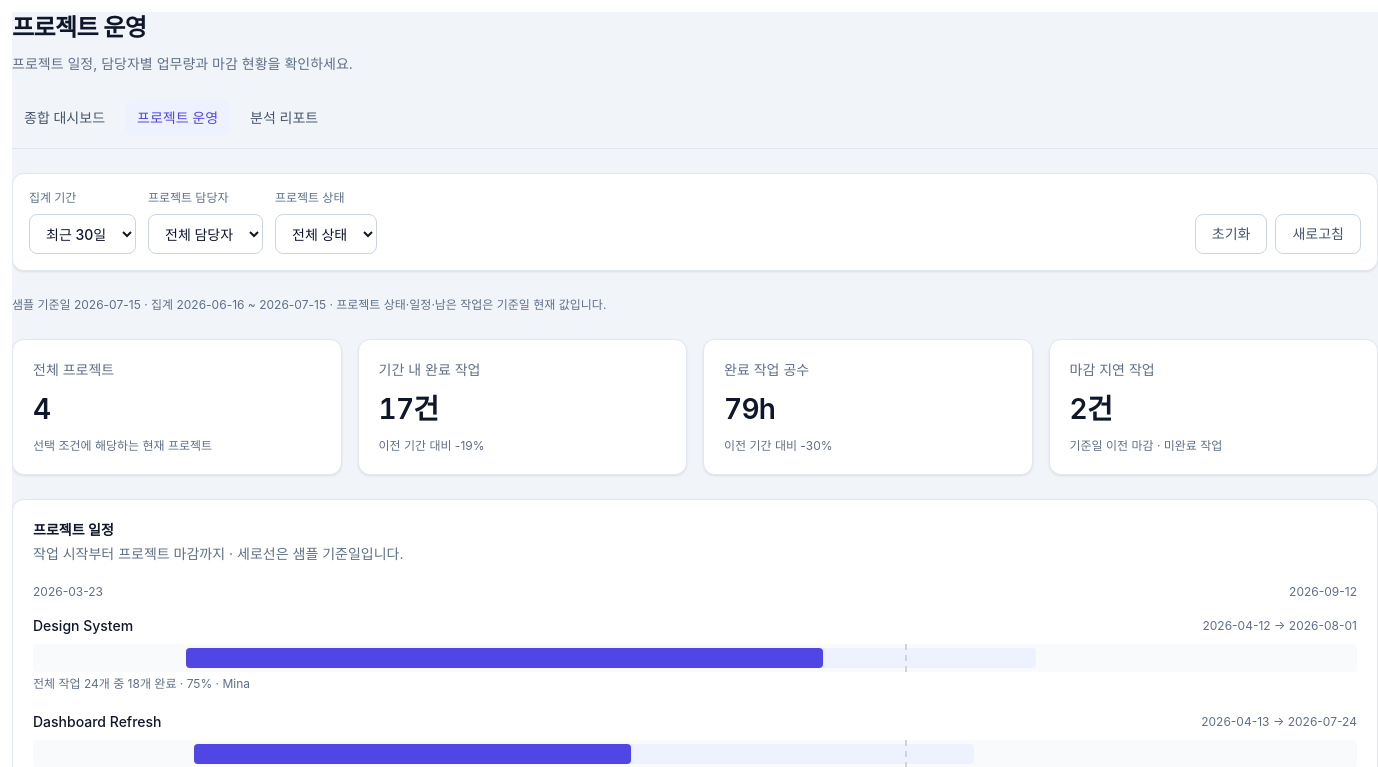
Test case: dashboard pages › 새로고침 실패 시 기존 데이터를 유지하고 다시 갱신한다
This screenshot has width=1378, height=767.
expect the text "전체 프로젝트" is shown: met, box [33,360,114,378]
Click the button "새로고침". click: (1318, 234)
box: [1276,214,1361,254]
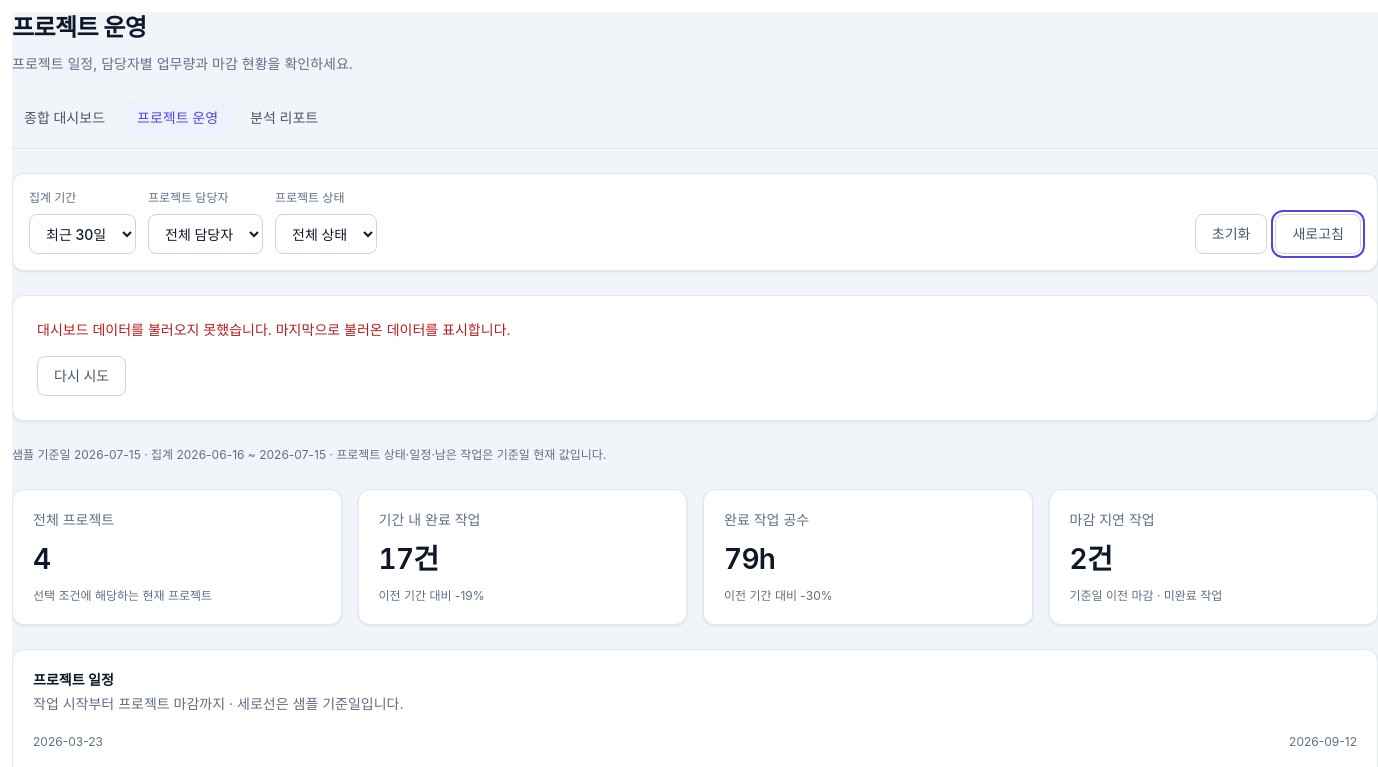
expect the text "전체 프로젝트" is shown: met, box [33,510,114,528]
expect the message shows "마지막으로 불러온 데이터를 표시합니다.": met, box [37,321,511,338]
